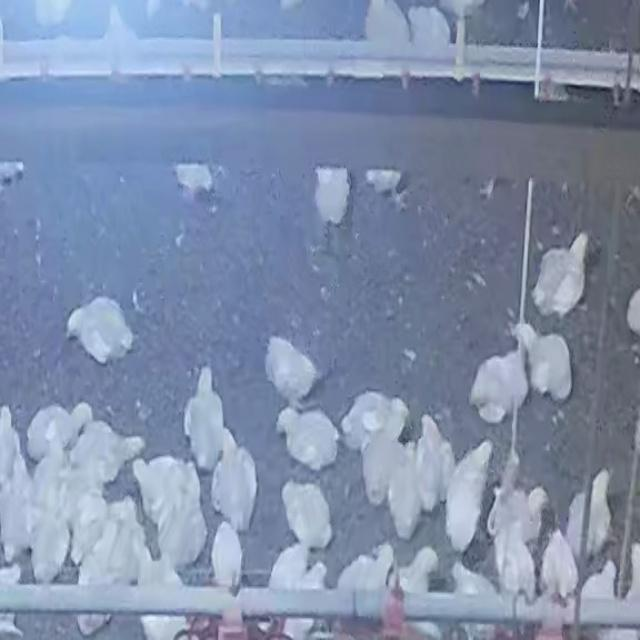chicken: (130, 452, 205, 568), (66, 514, 124, 632), (443, 442, 493, 552), (68, 416, 144, 488), (468, 339, 531, 424), (1, 420, 38, 561), (532, 232, 590, 319), (210, 432, 259, 532), (183, 366, 227, 472), (64, 298, 134, 362), (360, 423, 408, 513), (565, 470, 613, 558), (23, 431, 67, 527), (276, 406, 339, 473), (339, 390, 404, 452), (524, 326, 574, 406), (280, 481, 334, 552), (488, 519, 534, 602), (386, 440, 424, 540), (493, 487, 551, 550), (450, 570, 502, 640), (414, 414, 451, 512), (268, 336, 318, 407), (391, 546, 436, 623), (314, 137, 353, 225), (25, 403, 82, 463), (72, 464, 107, 559), (334, 544, 395, 597), (30, 505, 69, 587), (540, 528, 579, 600), (210, 520, 246, 589), (365, 0, 411, 50), (267, 542, 314, 590), (408, 6, 452, 55), (173, 162, 215, 199), (364, 168, 402, 195), (437, 0, 484, 20)
